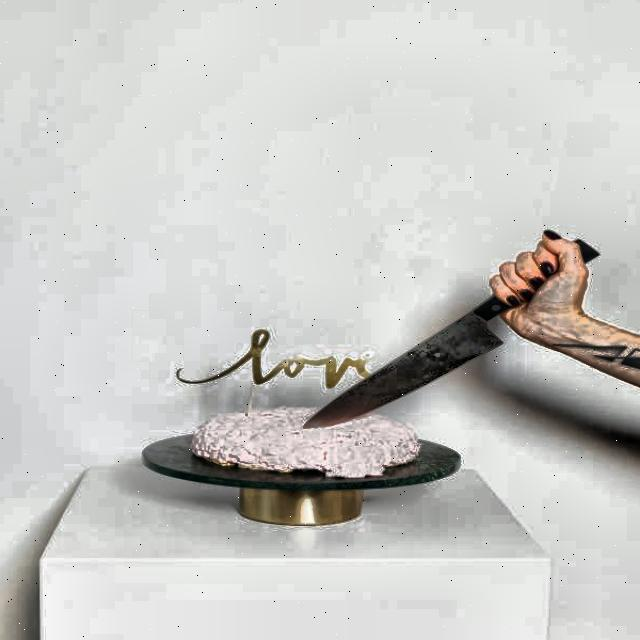knife: (291, 233, 611, 440)
